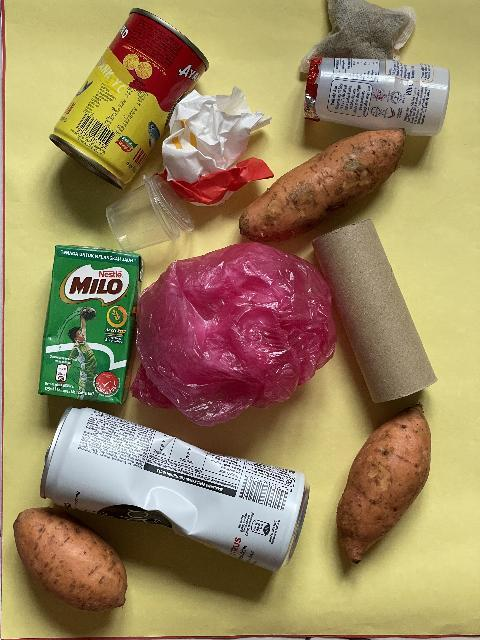drinkcan: (38, 404, 312, 574)
drinkpack: (37, 244, 145, 406)
foodcan: (48, 7, 210, 192)
paperbag: (158, 84, 274, 206)
plasticbag: (128, 240, 338, 428)
plasticbottle: (302, 55, 452, 138)
plasticcontainer: (106, 173, 194, 250)
sweetpotato: (239, 125, 408, 243), (336, 402, 433, 566), (12, 506, 128, 612)
teabag: (298, 0, 418, 76)
tissueroll: (309, 217, 439, 405)
